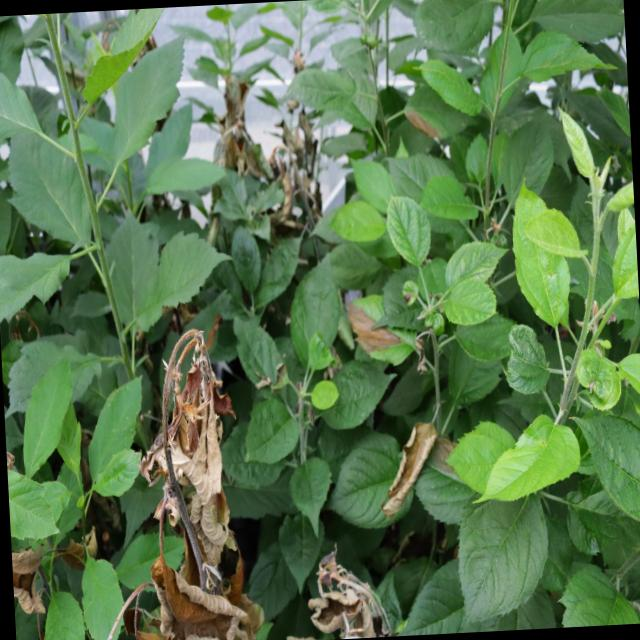-FireBlight-: (96, 316, 286, 640), (206, 57, 316, 231), (297, 545, 406, 640), (381, 410, 445, 521)
